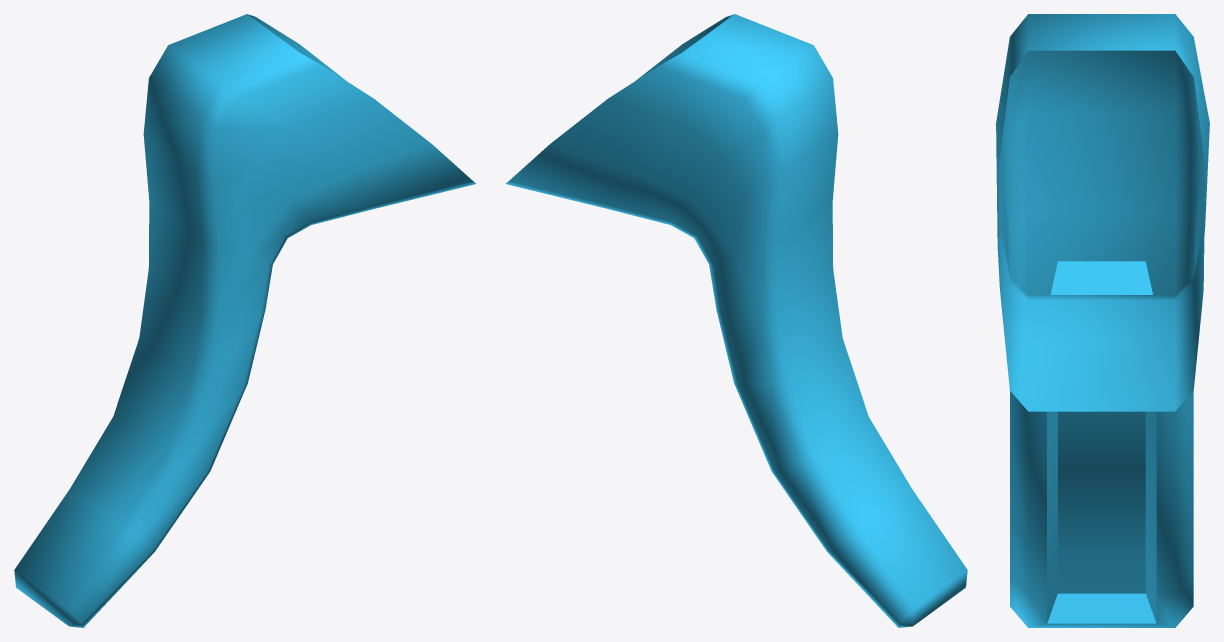
Rendered from SprayBottleTrigger(1).fbx.
3 renders of one model, left to right at view 1: azimuth 30°, elevation 25°; view 2: azimuth 150°, elevation 25°; view 3: azimuth 270°, elevation 25°, orthographic. The views are drawn at different scales.
Parts seen in each view (by area): view 1: BottleTrigger; view 2: BottleTrigger; view 3: BottleTrigger.
Part boxes in pixels (x1=…): BottleTrigger: x1=14, y1=14, x2=476, y2=627; BottleTrigger: x1=505, y1=14, x2=967, y2=627; BottleTrigger: x1=996, y1=14, x2=1209, y2=627.
Bounding box in the file's own units: 18.81 × 22.94 × 6.14.
